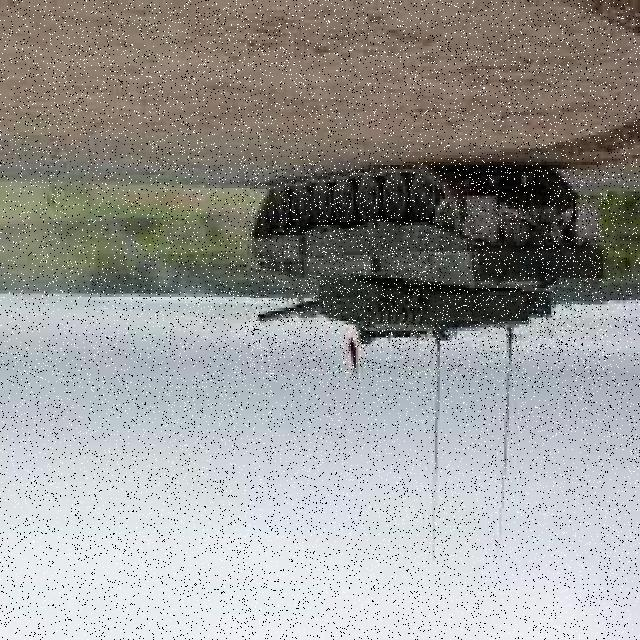MIL_MBT: (250, 168, 607, 378)
